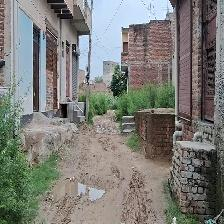Obstacle: (167, 136, 217, 220), (83, 2, 93, 119), (119, 112, 137, 141)
Road: (28, 109, 162, 223)
